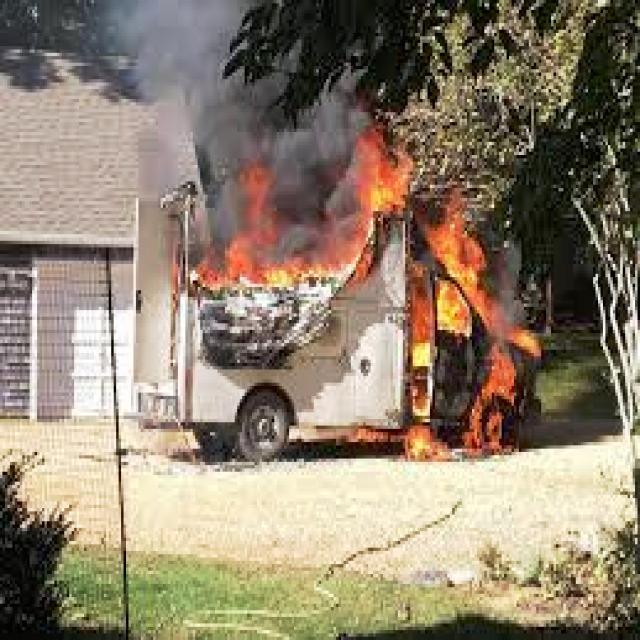api: (409, 196, 567, 479), (186, 146, 426, 311)
